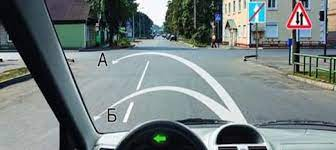1.19.1: (282, 3, 315, 28)
